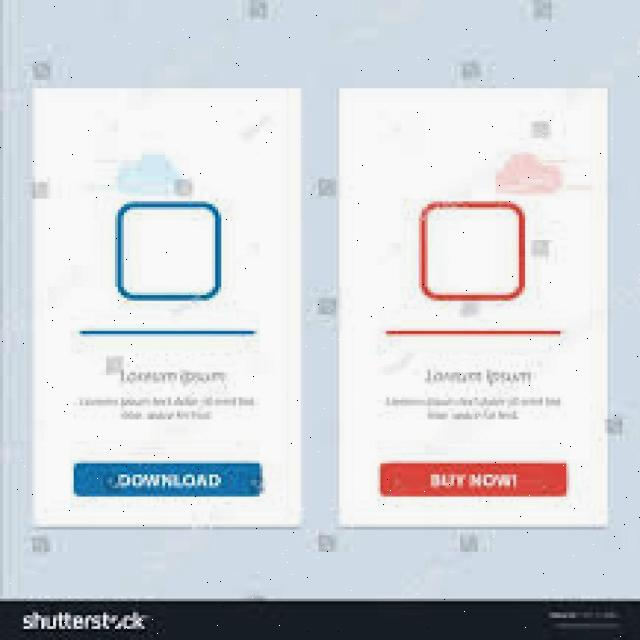button: (71, 462, 263, 498), (380, 463, 570, 498)
checkbox: (116, 202, 224, 300), (421, 203, 524, 301)
